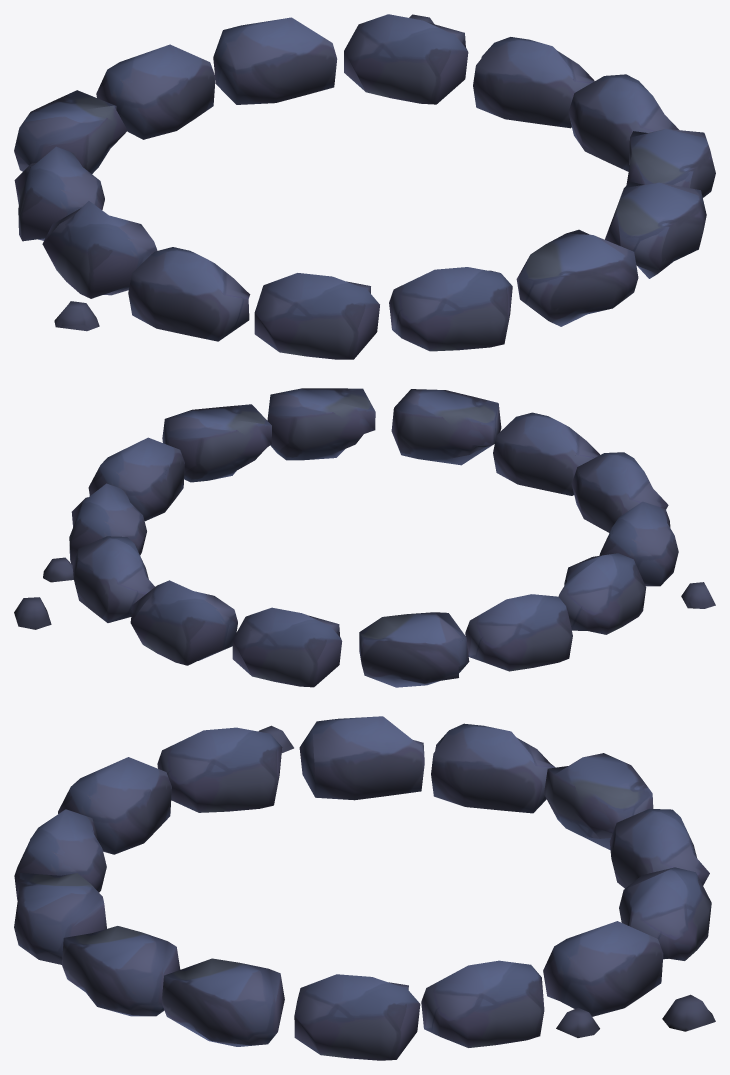
File: SM_FireplaceStones_01.fbx
The picture shows the model from 3 angles, top to bottom: view 1: azimuth 30°, elevation 25°; view 2: azimuth 150°, elevation 25°; view 3: azimuth 270°, elevation 25°; orthographic projection. The views are drawn at different scales.
Parts seen in each view (by area): view 1: Cube.001; view 2: Cube.001; view 3: Cube.001.
Part boxes in pixels (bbox=[...]): Cube.001: bbox=[14, 14, 715, 359]; Cube.001: bbox=[14, 388, 715, 687]; Cube.001: bbox=[14, 716, 715, 1060].
Bounding box in the file's own units: 242 × 29.26 × 225.
